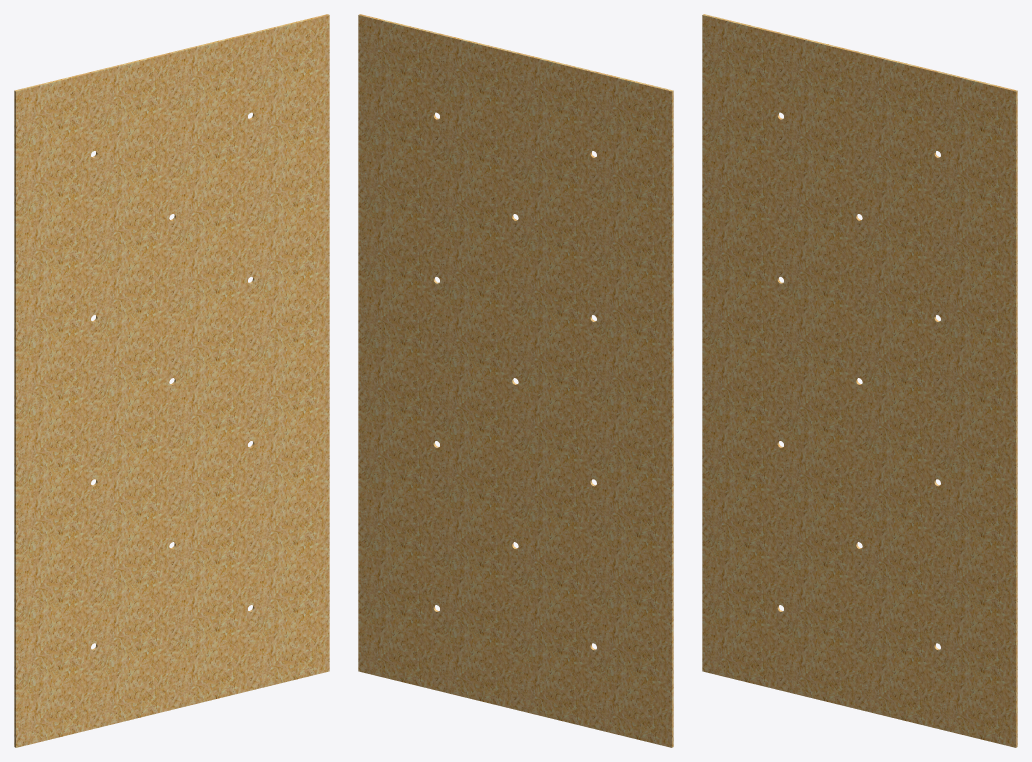
File: five_dice_wall.dae
3 views of the same model, side by side, from view 1: azimuth 30°, elevation 25°; view 2: azimuth 150°, elevation 25°; view 3: azimuth 330°, elevation 25° (orthographic).
Visible parts, largest first — view 1: skp16DF; view 2: skp16DF; view 3: skp16DF.
Boxes of the visible parts, x1,y1,x2,y2 form: skp16DF: (14, 14, 329, 747); skp16DF: (358, 14, 673, 747); skp16DF: (702, 14, 1017, 747).
Bounding box in the file's own units: 48 × 0.375 × 96.
Materials: 1 (1 with a texture image).
